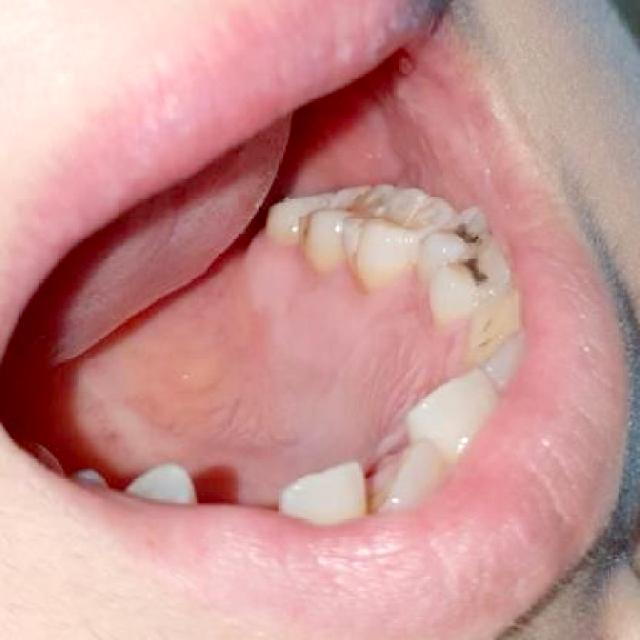Plaque: (343, 216, 379, 276), (476, 312, 503, 352), (302, 223, 314, 243)
